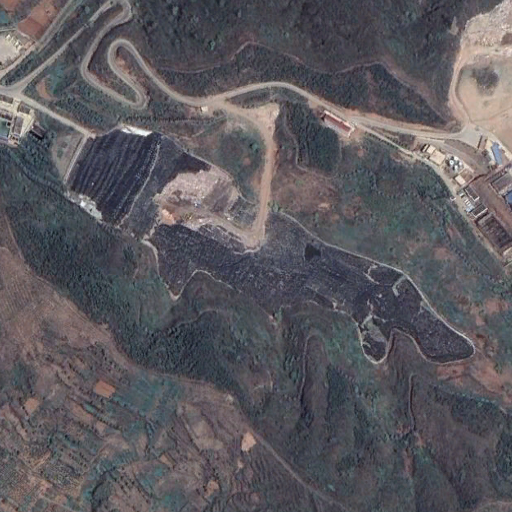lf: (64, 123, 477, 365)
